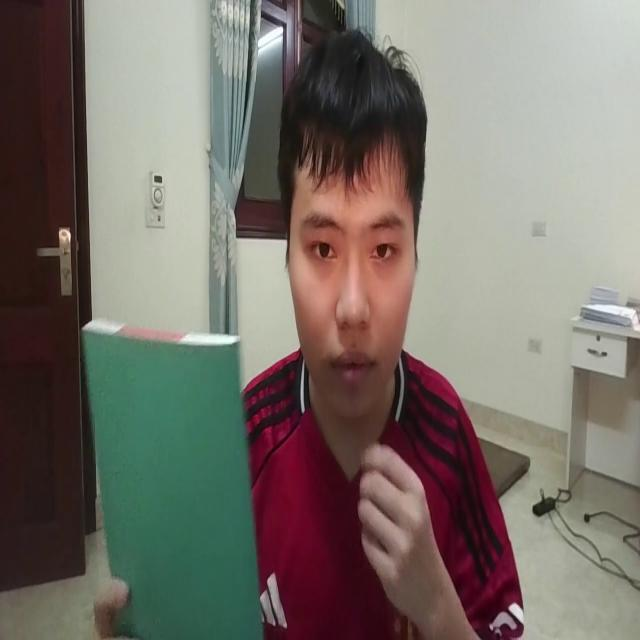book: (78, 317, 260, 640)
student: (236, 24, 526, 640)
